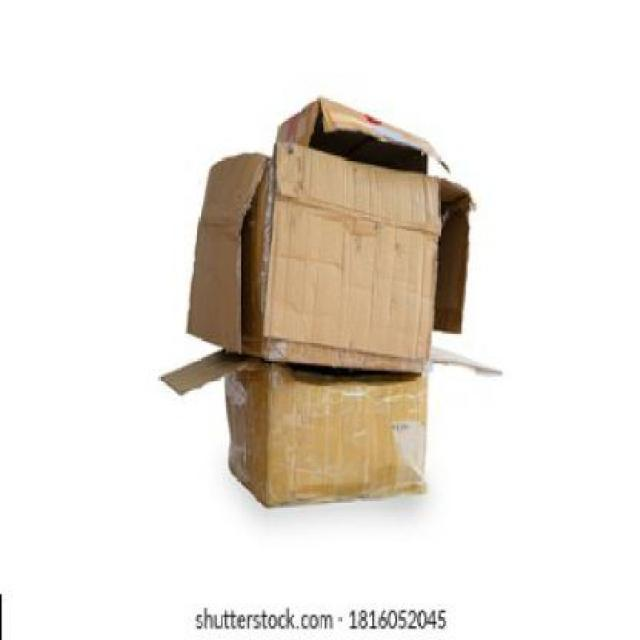box: (206, 99, 472, 368), (218, 344, 428, 501)
